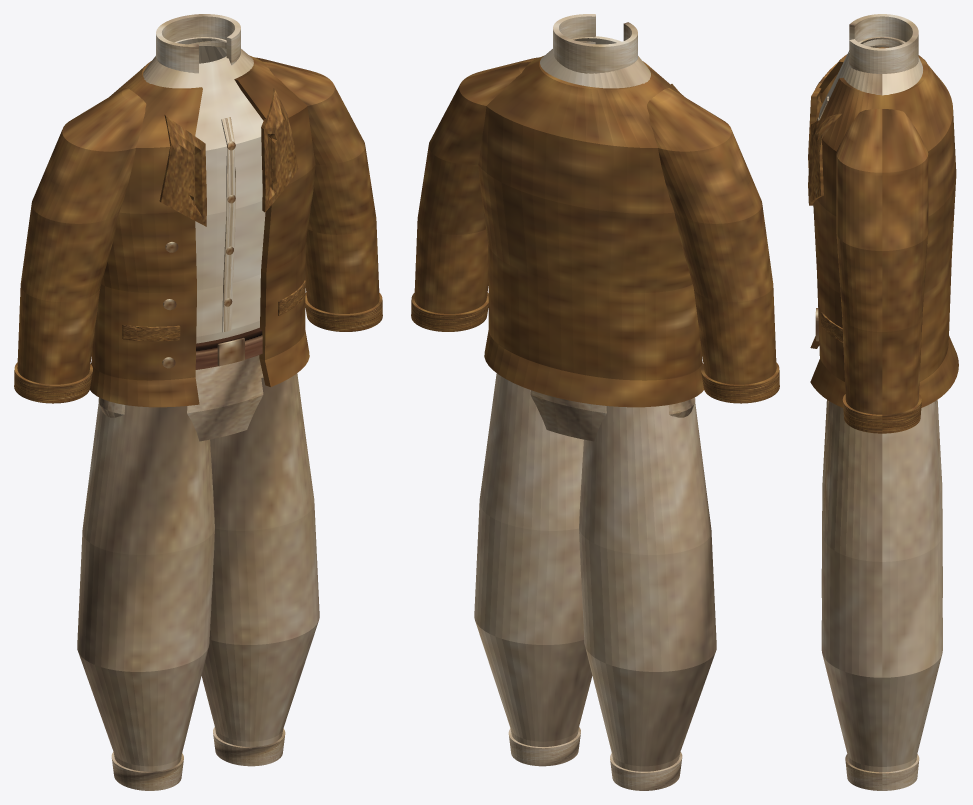
The picture shows the model from 3 angles, left to right: view 1: azimuth 30°, elevation 25°; view 2: azimuth 150°, elevation 25°; view 3: azimuth 270°, elevation 25°; orthographic projection.
Parts seen in each view (by area): view 1: left_trouser_leg, outer_coat, right_trouser_leg, left_coat_sleeve, shirt_body, right_coat_sleeve, trouser_hips, left_lapel, shirt_collar, right_lapel, shirt_placket, left_coat_cuff (+6 smaller); view 2: outer_coat, left_trouser_leg, right_trouser_leg, left_coat_sleeve, right_coat_sleeve, shirt_collar, trouser_hips, shirt_body, left_coat_cuff, right_coat_cuff, left_trouser_cuff, right_trouser_cuff; view 3: right_trouser_leg, right_coat_sleeve, outer_coat, shirt_collar, shirt_body, right_coat_cuff, right_trouser_cuff, right_lapel, left_trouser_leg, left_lapel, right_pocket.
Part boxes in pixels (x1,y1,x2,y2): left_trouser_leg: [77, 402, 214, 771]; outer_coat: [90, 55, 315, 407]; right_trouser_leg: [201, 373, 319, 746]; left_coat_sleeve: [17, 88, 146, 384]; shirt_body: [143, 37, 265, 343]; right_coat_sleeve: [254, 57, 379, 313]; trouser_hips: [98, 355, 263, 441]; left_lapel: [159, 115, 206, 226]; shirt_collar: [156, 14, 240, 73]; right_lapel: [261, 88, 298, 212]; shirt_placket: [221, 117, 235, 332]; left_coat_cuff: [14, 362, 92, 403]; outer_coat: [478, 55, 703, 407]; left_trouser_leg: [579, 402, 716, 771]; right_trouser_leg: [474, 373, 592, 746]; left_coat_sleeve: [647, 88, 776, 384]; right_coat_sleeve: [414, 57, 539, 313]; shirt_collar: [553, 14, 637, 73]; trouser_hips: [530, 390, 695, 441]; shirt_body: [540, 36, 650, 88]; left_coat_cuff: [701, 362, 779, 403]; right_coat_cuff: [411, 292, 488, 331]; left_trouser_cuff: [610, 752, 682, 790]; right_trouser_cuff: [508, 727, 580, 766]; right_trouser_leg: [821, 401, 942, 772]; right_coat_sleeve: [836, 109, 928, 414]; outer_coat: [810, 47, 958, 407]; shirt_collar: [849, 14, 918, 73]; shirt_body: [819, 36, 922, 115]; right_coat_cuff: [842, 394, 921, 433]; right_trouser_cuff: [845, 754, 919, 790]; right_lapel: [808, 113, 841, 205]; left_trouser_leg: [821, 400, 942, 597]; left_lapel: [808, 61, 838, 168]; right_pocket: [820, 312, 843, 342].
Bounding box in the file's own units: 60.28 × 118 × 22.4.
5 materials, 5 textured.
